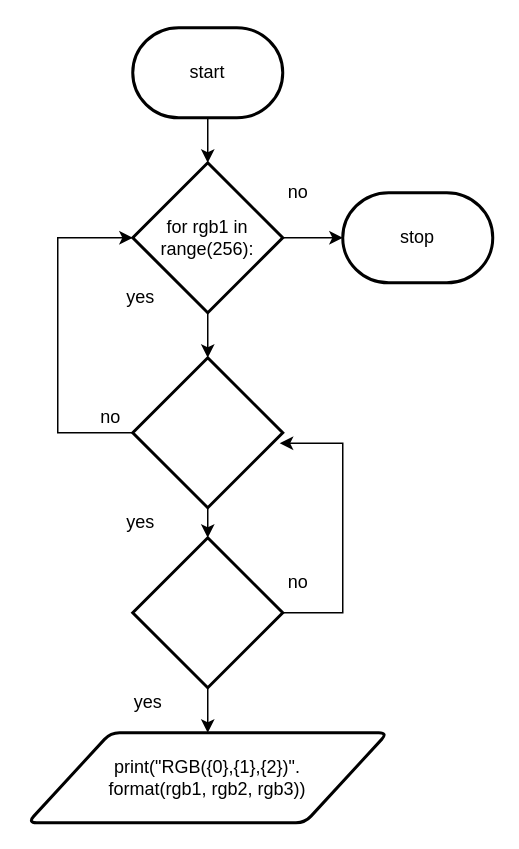
Image size: 519x849. Some labels were removed from this diagram. The centre of each missing label's shape, as x and y in pixels:
"for rgb2 in range(256):" belongs at point 207,432.
"for rgb3 in range(256):" belongs at point 207,612.
